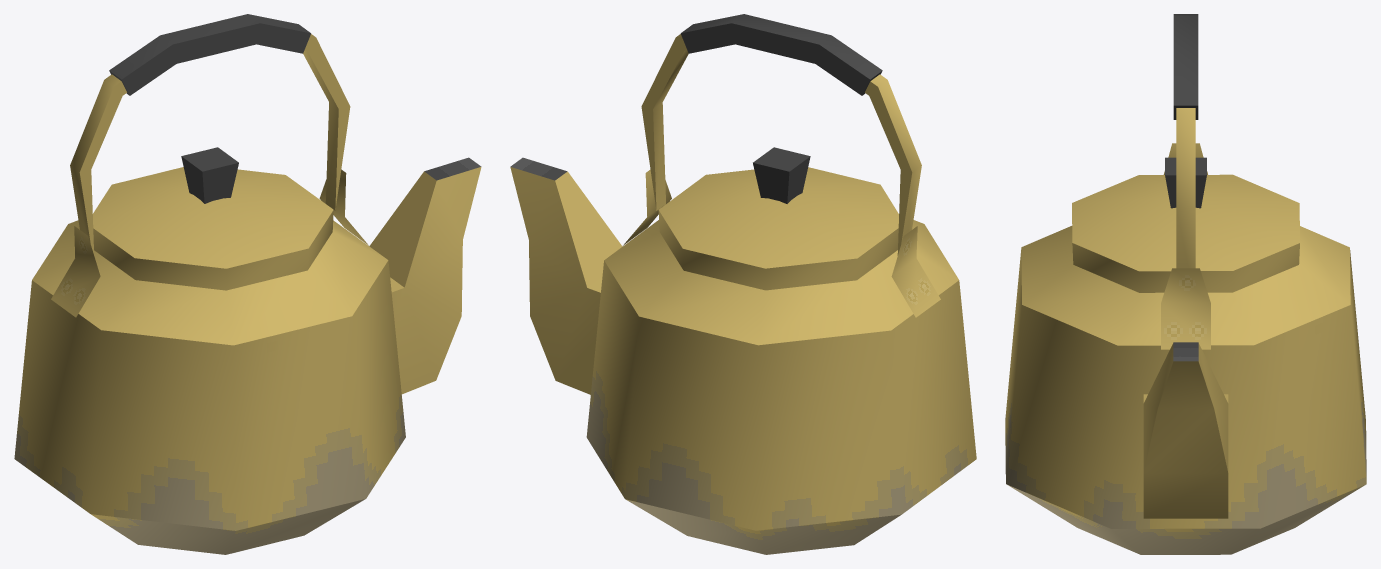
The model's file is 0390_Kettle.glb.
3 renders of one model, left to right at view 1: azimuth 30°, elevation 25°; view 2: azimuth 150°, elevation 25°; view 3: azimuth 270°, elevation 25°, orthographic.
Parts seen in each view (by area): view 1: part_0; view 2: part_0; view 3: part_0.
Part boxes in pixels (x1,y1,x2,y2): part_0: (14, 14, 481, 554); part_0: (510, 14, 976, 554); part_0: (1005, 14, 1366, 554).
Bounding box in the file's own units: 0.3307 × 0.3554 × 0.247.
Materials: 1 (1 with a texture image).
